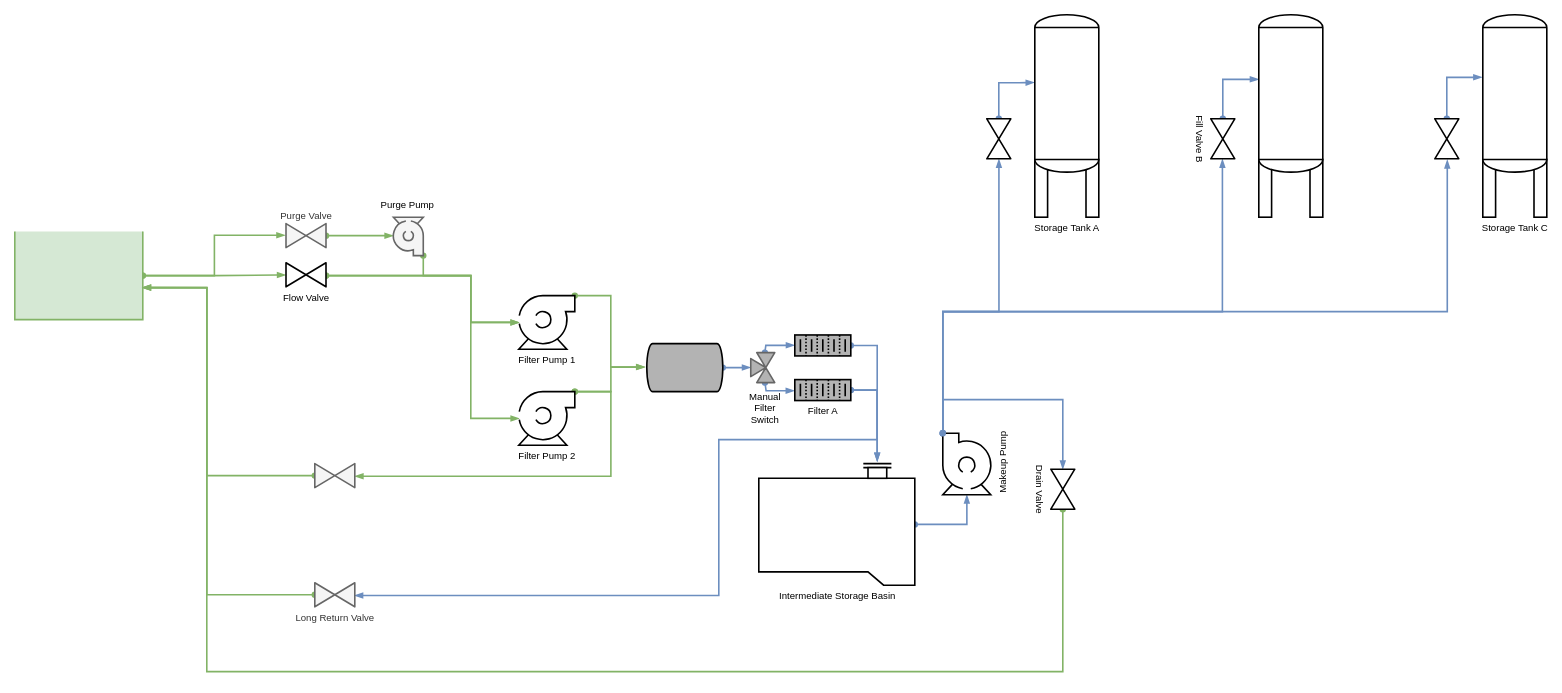
This 1562x693 diagram has some shape labels left out. The shapes that lost their labels are listed below. From the top down, each one's box as (x1, y1, x2, y2) in pixels, then its label:
(1258, 14, 1323, 218): Storage Tank B
(986, 118, 1011, 159): Fill Valve A
(1434, 118, 1459, 159): Fill Valve C
(14, 230, 143, 320): FRESHWATER POND
(794, 334, 851, 356): Filter B
(314, 462, 355, 488): Short Return Valve
